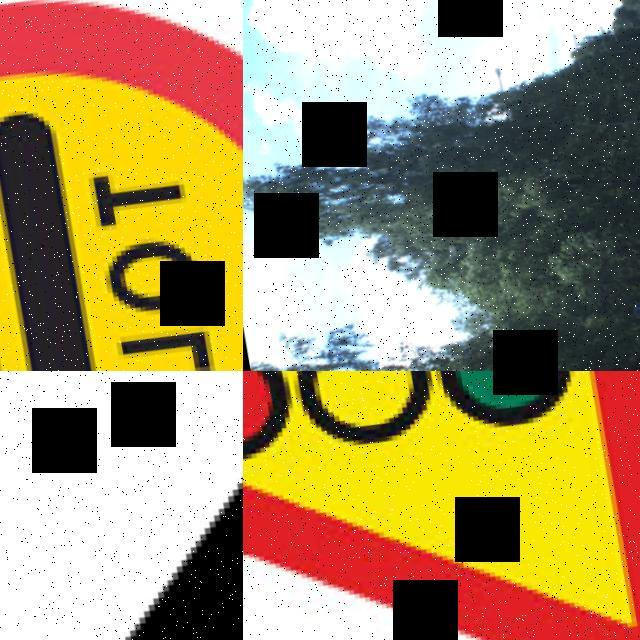140: (243, 371, 640, 640)
180: (631, 287, 640, 313)
End of all restrictions: (0, 371, 243, 640)
Stop at customs: (0, 0, 243, 371)
